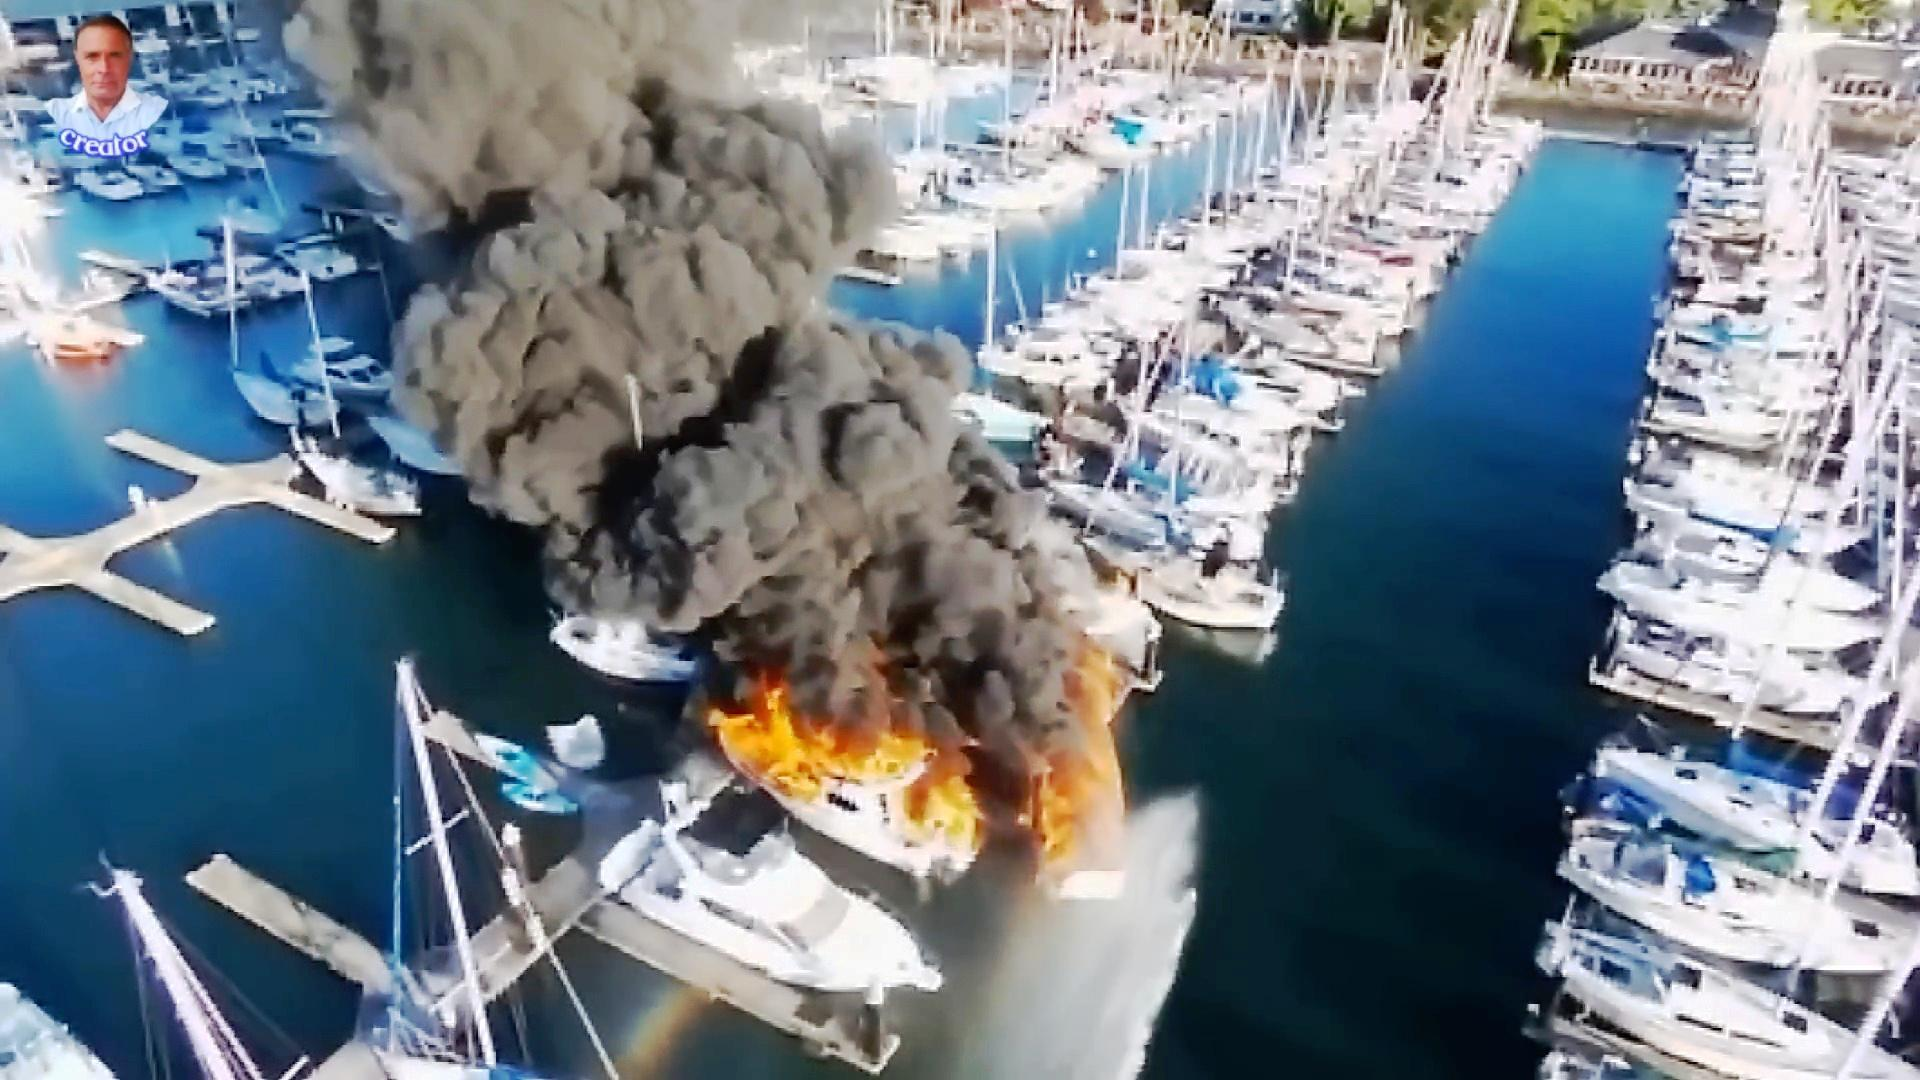fire: (720, 694, 951, 820), (1019, 661, 1138, 877)
smoke: (423, 113, 886, 455), (597, 335, 938, 605), (315, 0, 733, 194), (787, 483, 1054, 723)
